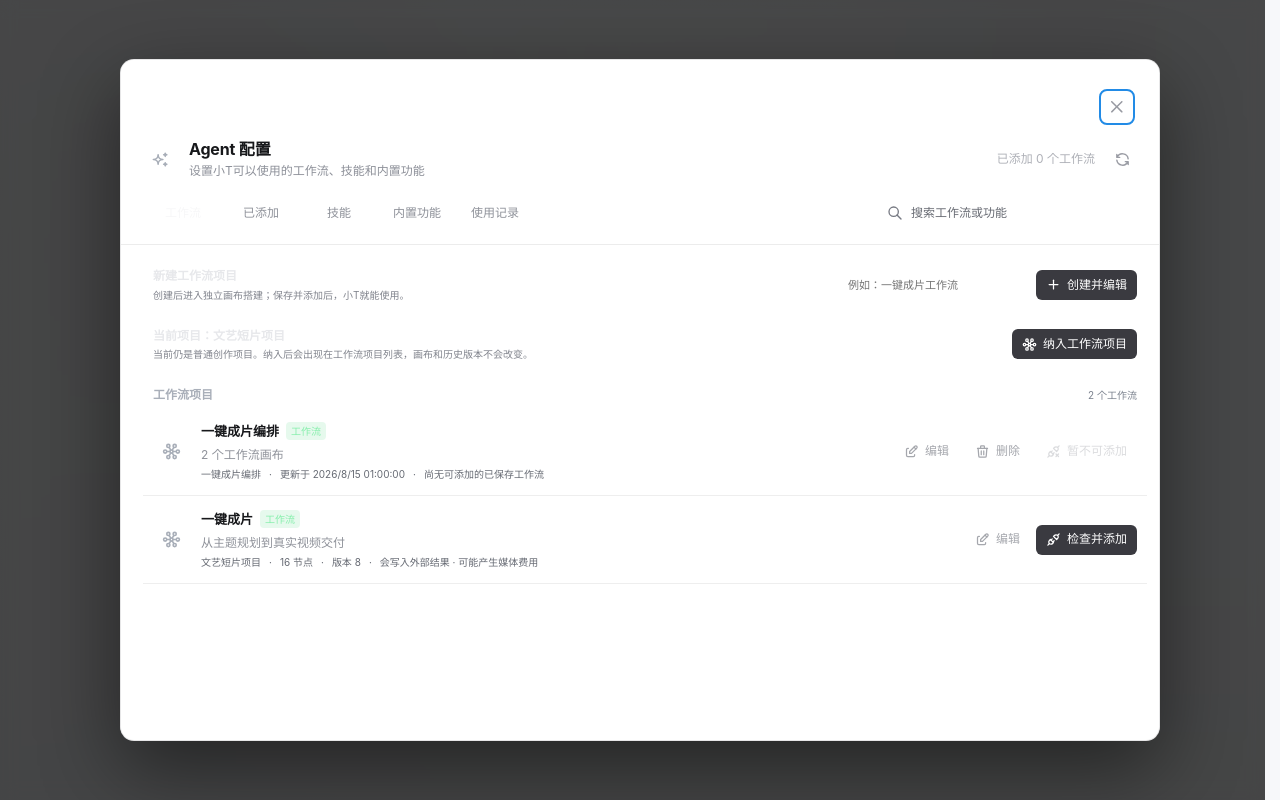
Test: CapabilityBayDialog › shows a system stop and prevents the user from overriding the administrator
The width and height of the screenshot is (1280, 800).
expect the text "一键成片" is shown: met, box left=201, top=509, right=253, bottom=530
Click the tab "内置功能" at (417, 213), box left=380, top=199, right=454, bottom=227
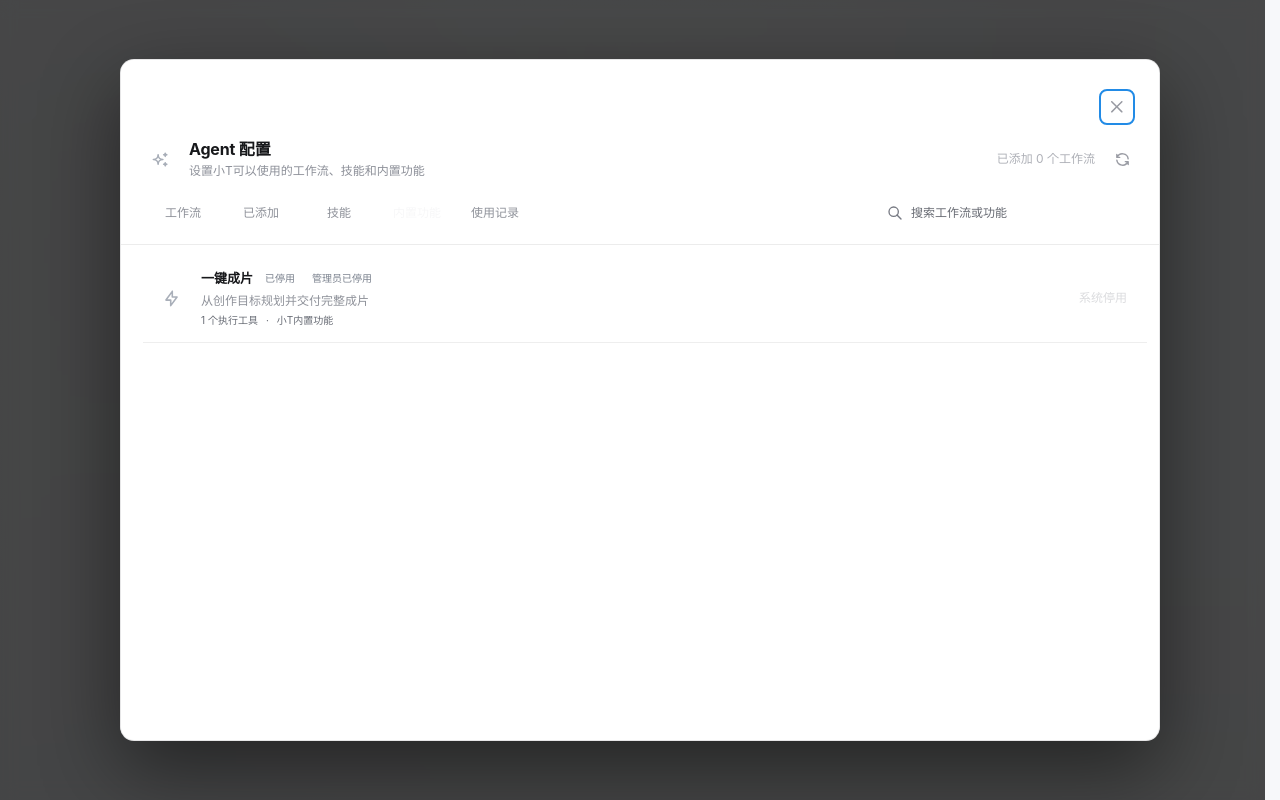
expect the text "管理员已停用" is shown: met, box left=307, top=269, right=377, bottom=287
expect the button "系统停用" is disabled: met, box left=1069, top=284, right=1137, bottom=314
